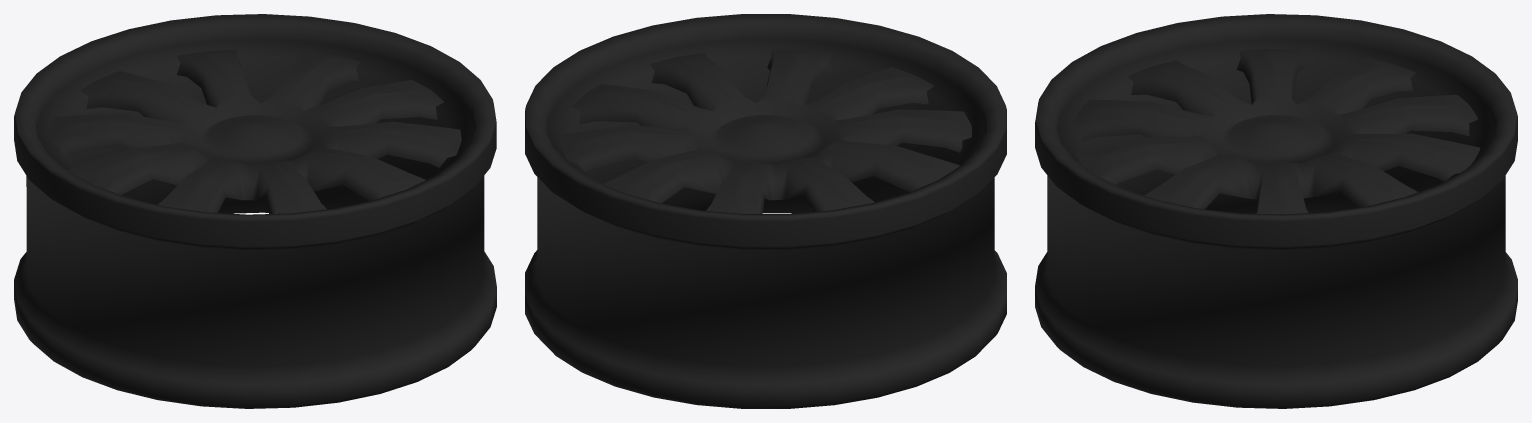
The model's file is Rim_A.fbx.
The picture shows the model from 3 angles, left to right: view 1: azimuth 30°, elevation 25°; view 2: azimuth 150°, elevation 25°; view 3: azimuth 270°, elevation 25°; orthographic projection.
Visible parts, largest first — view 1: Rim_A; view 2: Rim_A; view 3: Rim_A.
Part boxes in pixels (x1,y1,x2,y2): Rim_A: (14, 14, 496, 408); Rim_A: (525, 14, 1006, 408); Rim_A: (1035, 14, 1517, 408).
Size of the model in its own units: 0.4721 by 0.2086 by 0.4721.
